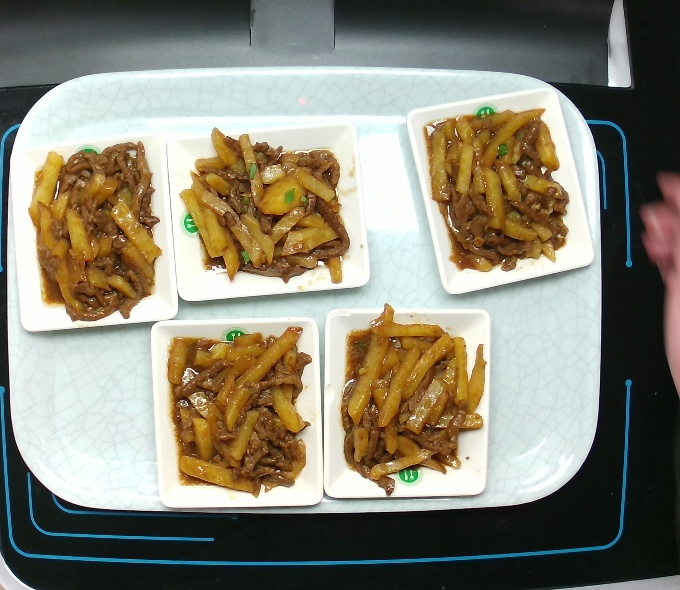wcq-TuDouNiuRou: (180, 126, 348, 294), (158, 320, 315, 495), (341, 307, 486, 491), (26, 148, 160, 322), (424, 103, 561, 269)
